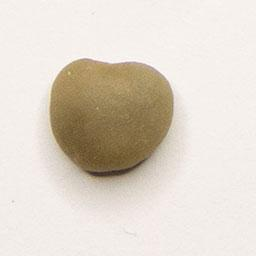premium: (45, 52, 179, 180)
